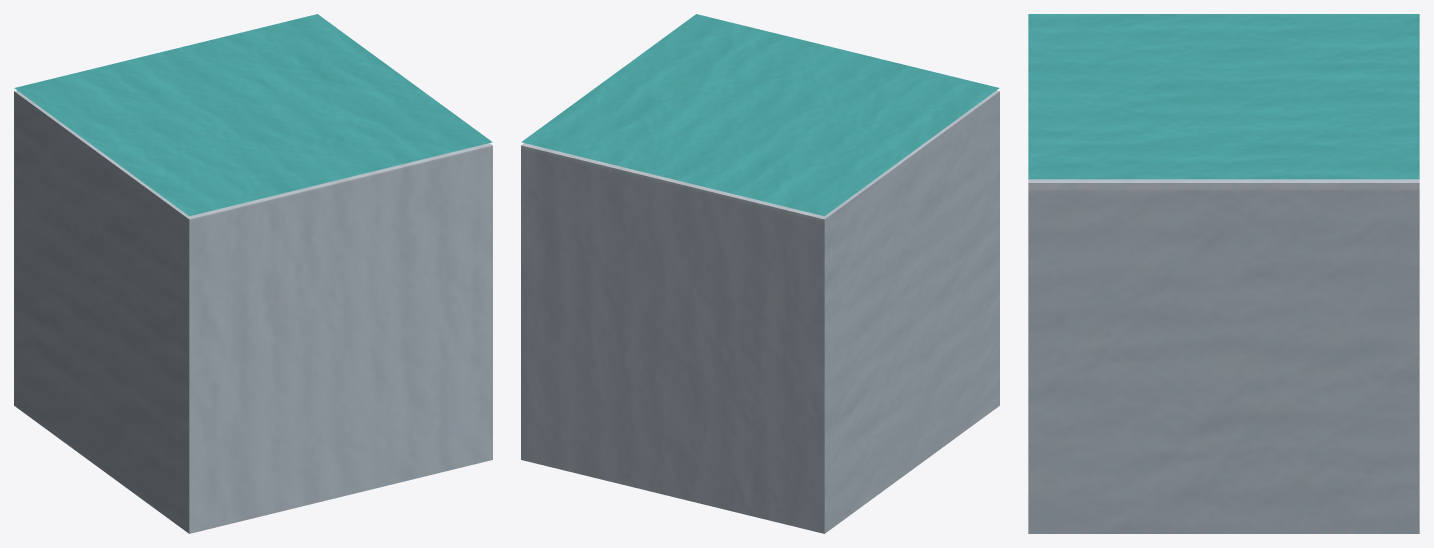
File: Tile1_5.fbx
3 renders of one model, left to right at view 1: azimuth 30°, elevation 25°; view 2: azimuth 150°, elevation 25°; view 3: azimuth 270°, elevation 25°, orthographic. The views are drawn at different scales.
Visible parts, largest first — view 1: Tile1_5; view 2: Tile1_5; view 3: Tile1_5.
Part boxes in pixels (x1,y1,x2,y2): Tile1_5: (14, 14, 492, 533); Tile1_5: (521, 14, 999, 533); Tile1_5: (1028, 14, 1419, 533).
Bounding box in the file's own units: 1 × 1 × 1.
1 material, 1 textured.
